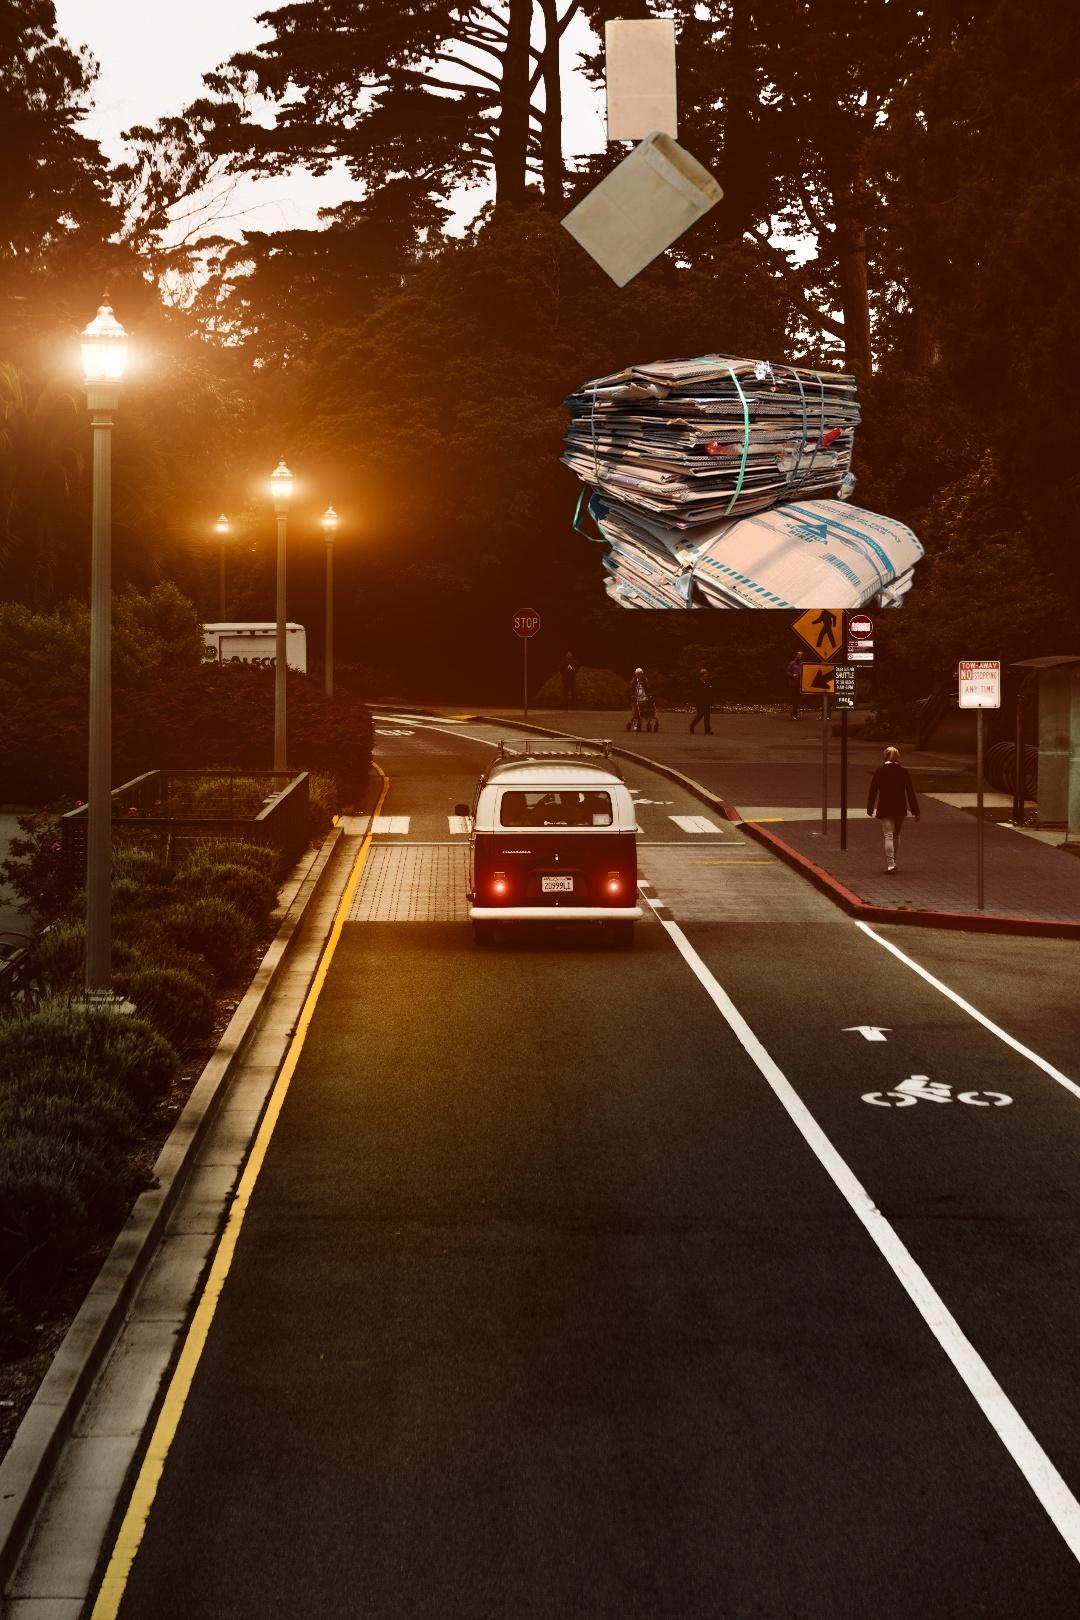paper-bag: (557, 14, 749, 292)
trashbox-cardboard: (553, 350, 929, 612)
